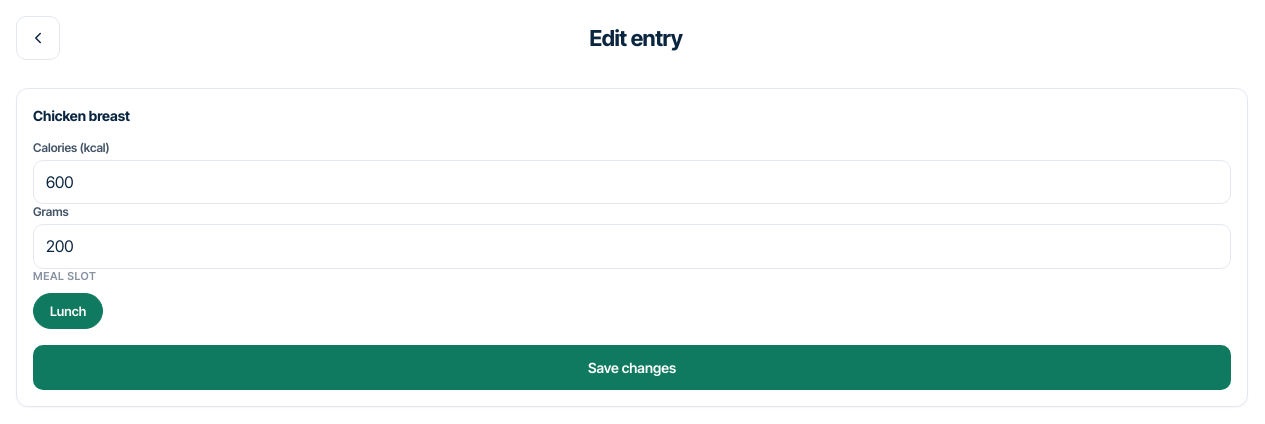
Scenario: EditEntry — grams is the quantity, so calories follow it › rescales upward too
Replace the text in the number field labelled "Grams" with "300" at x=632, y=247, box [33,224,1231,269]
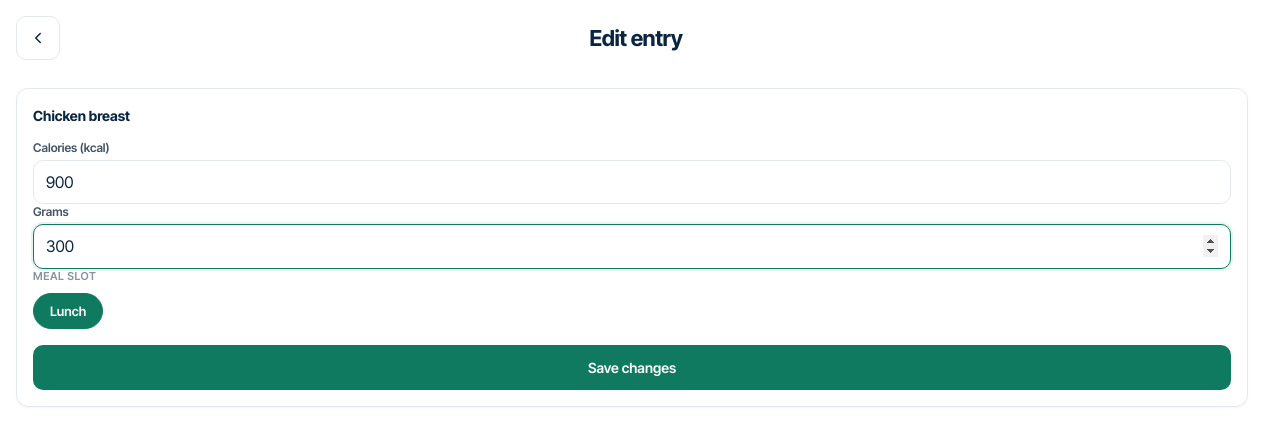
Expected: the number field labelled "Calories (kcal)" holds "900", [33,160,1231,204]
